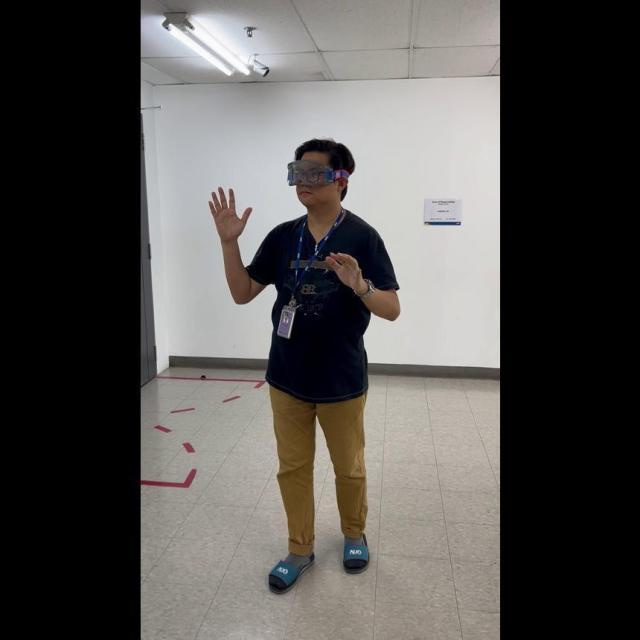bare_hand: (205, 180, 251, 242), (319, 246, 368, 295)
